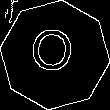O_S: (31, 27, 79, 83)
